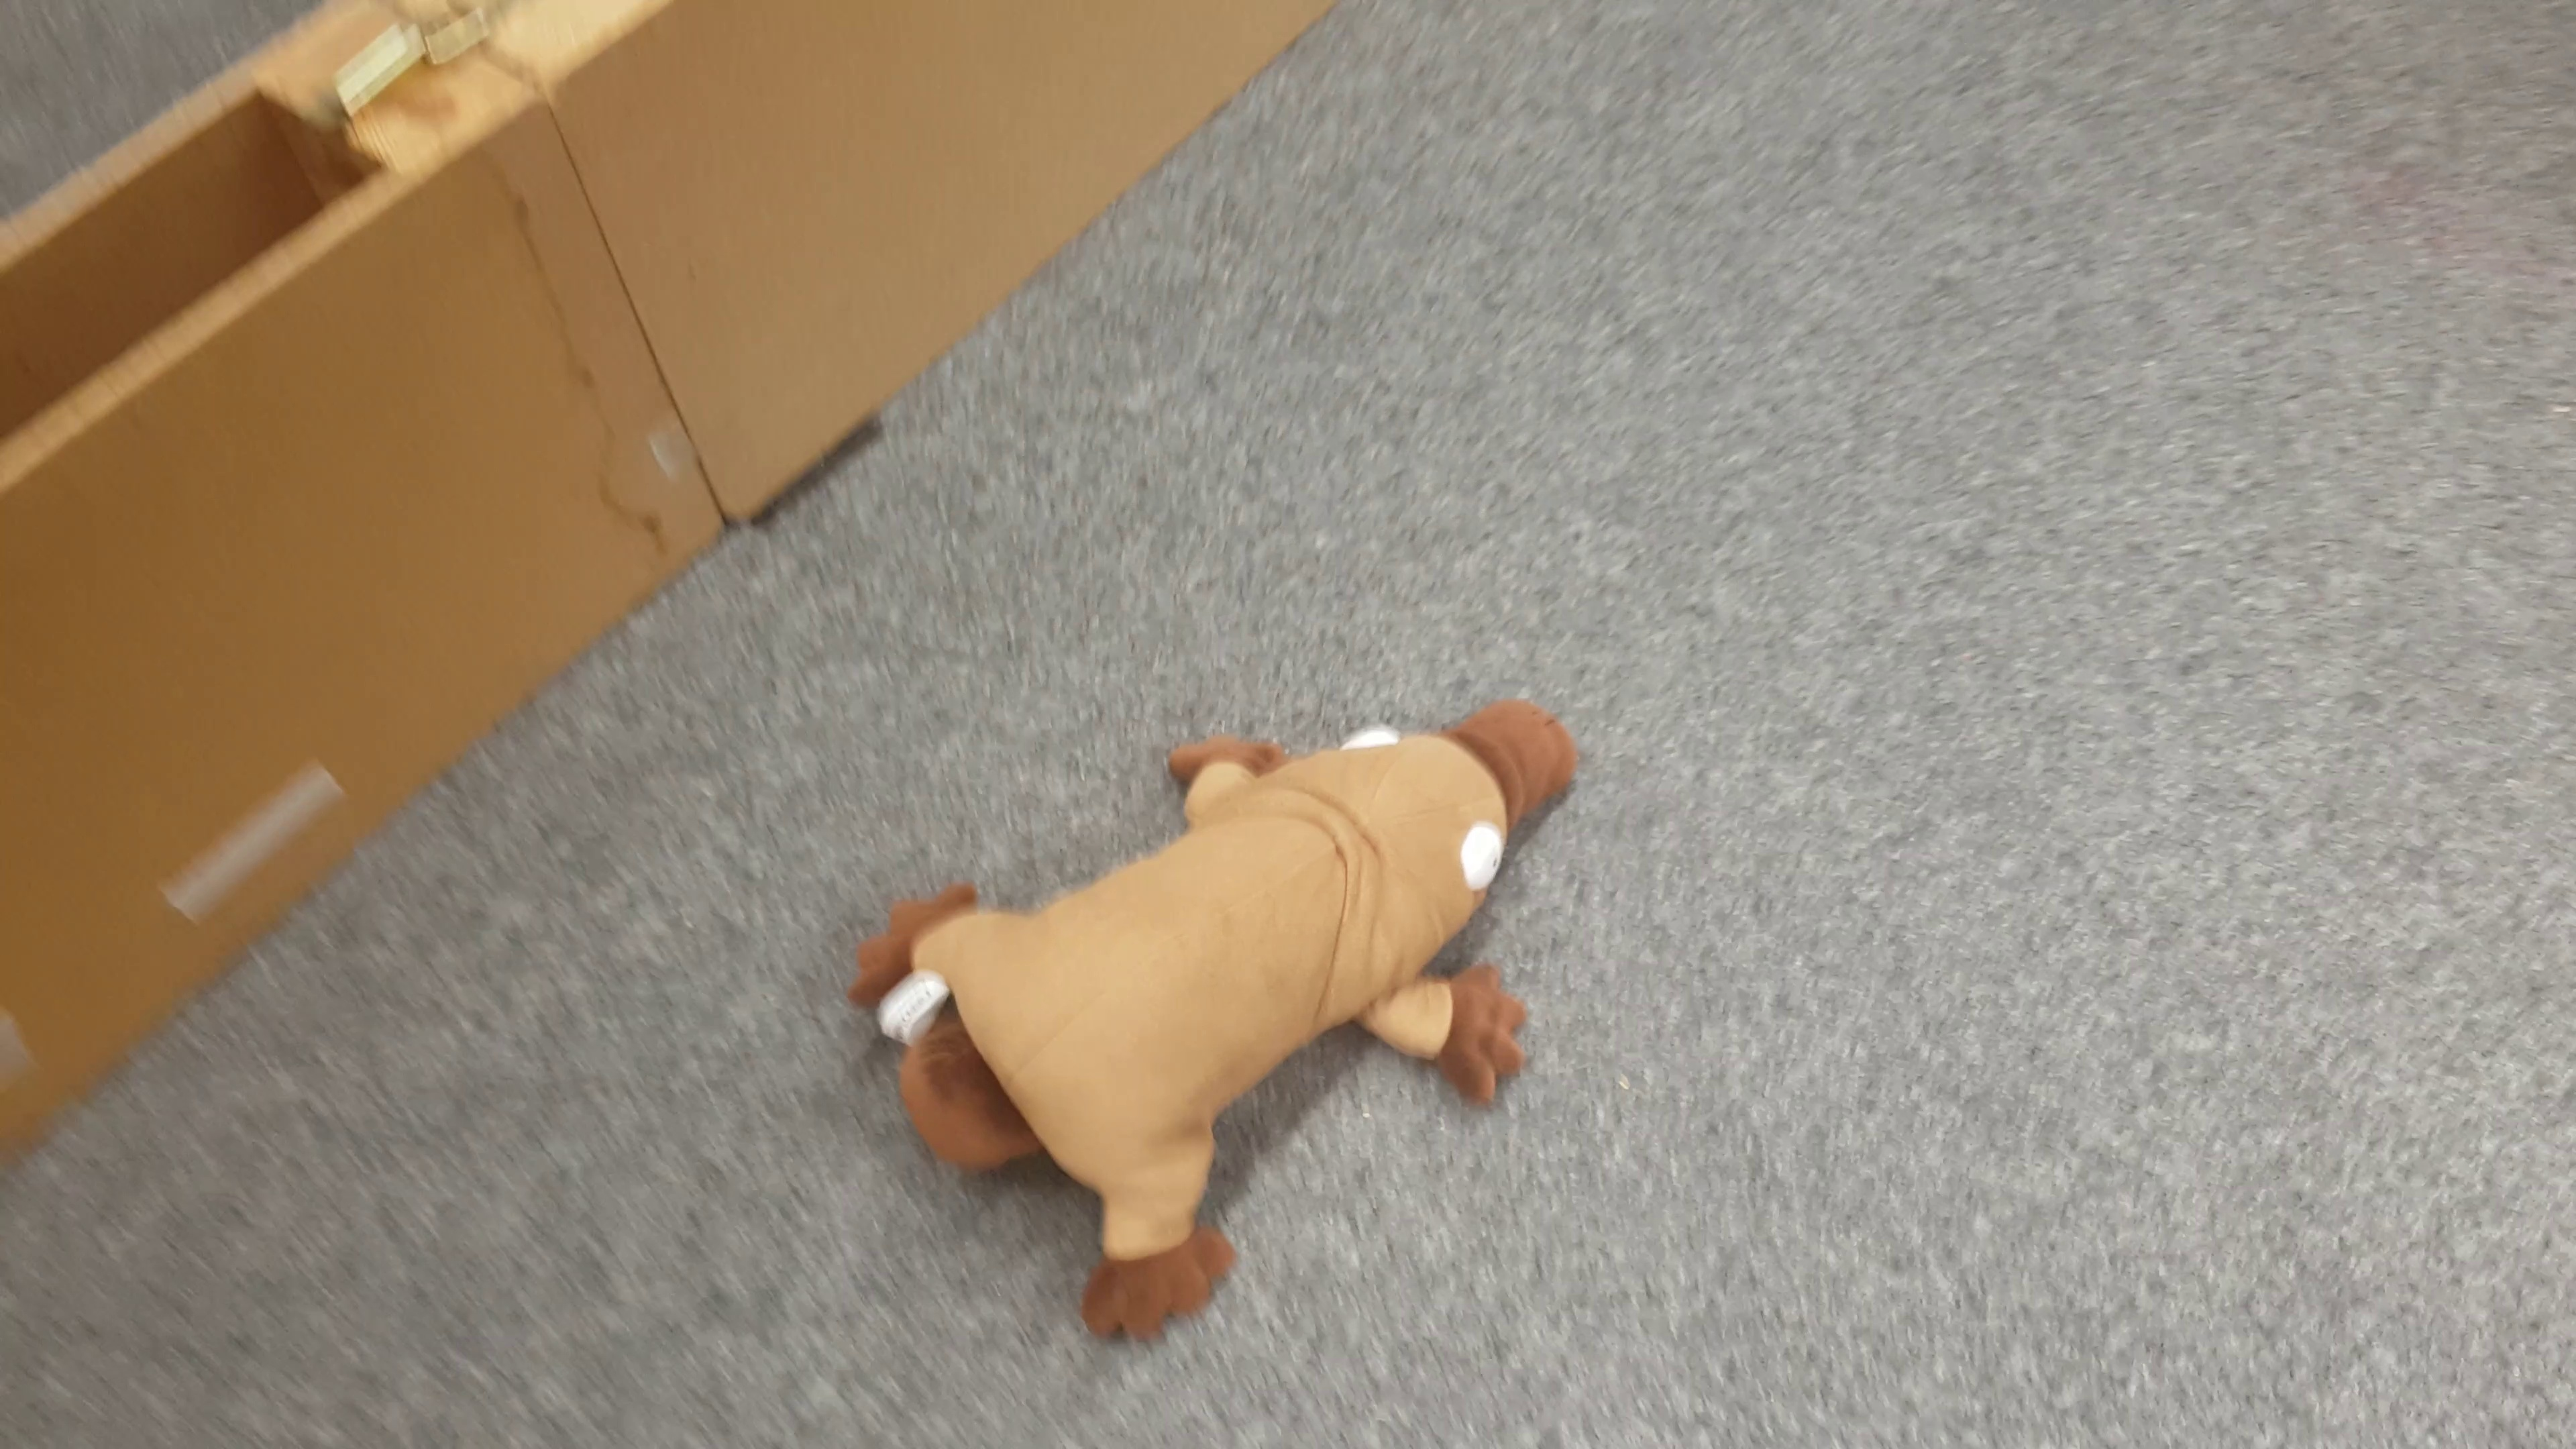grasp: (847, 692, 1580, 1350)
